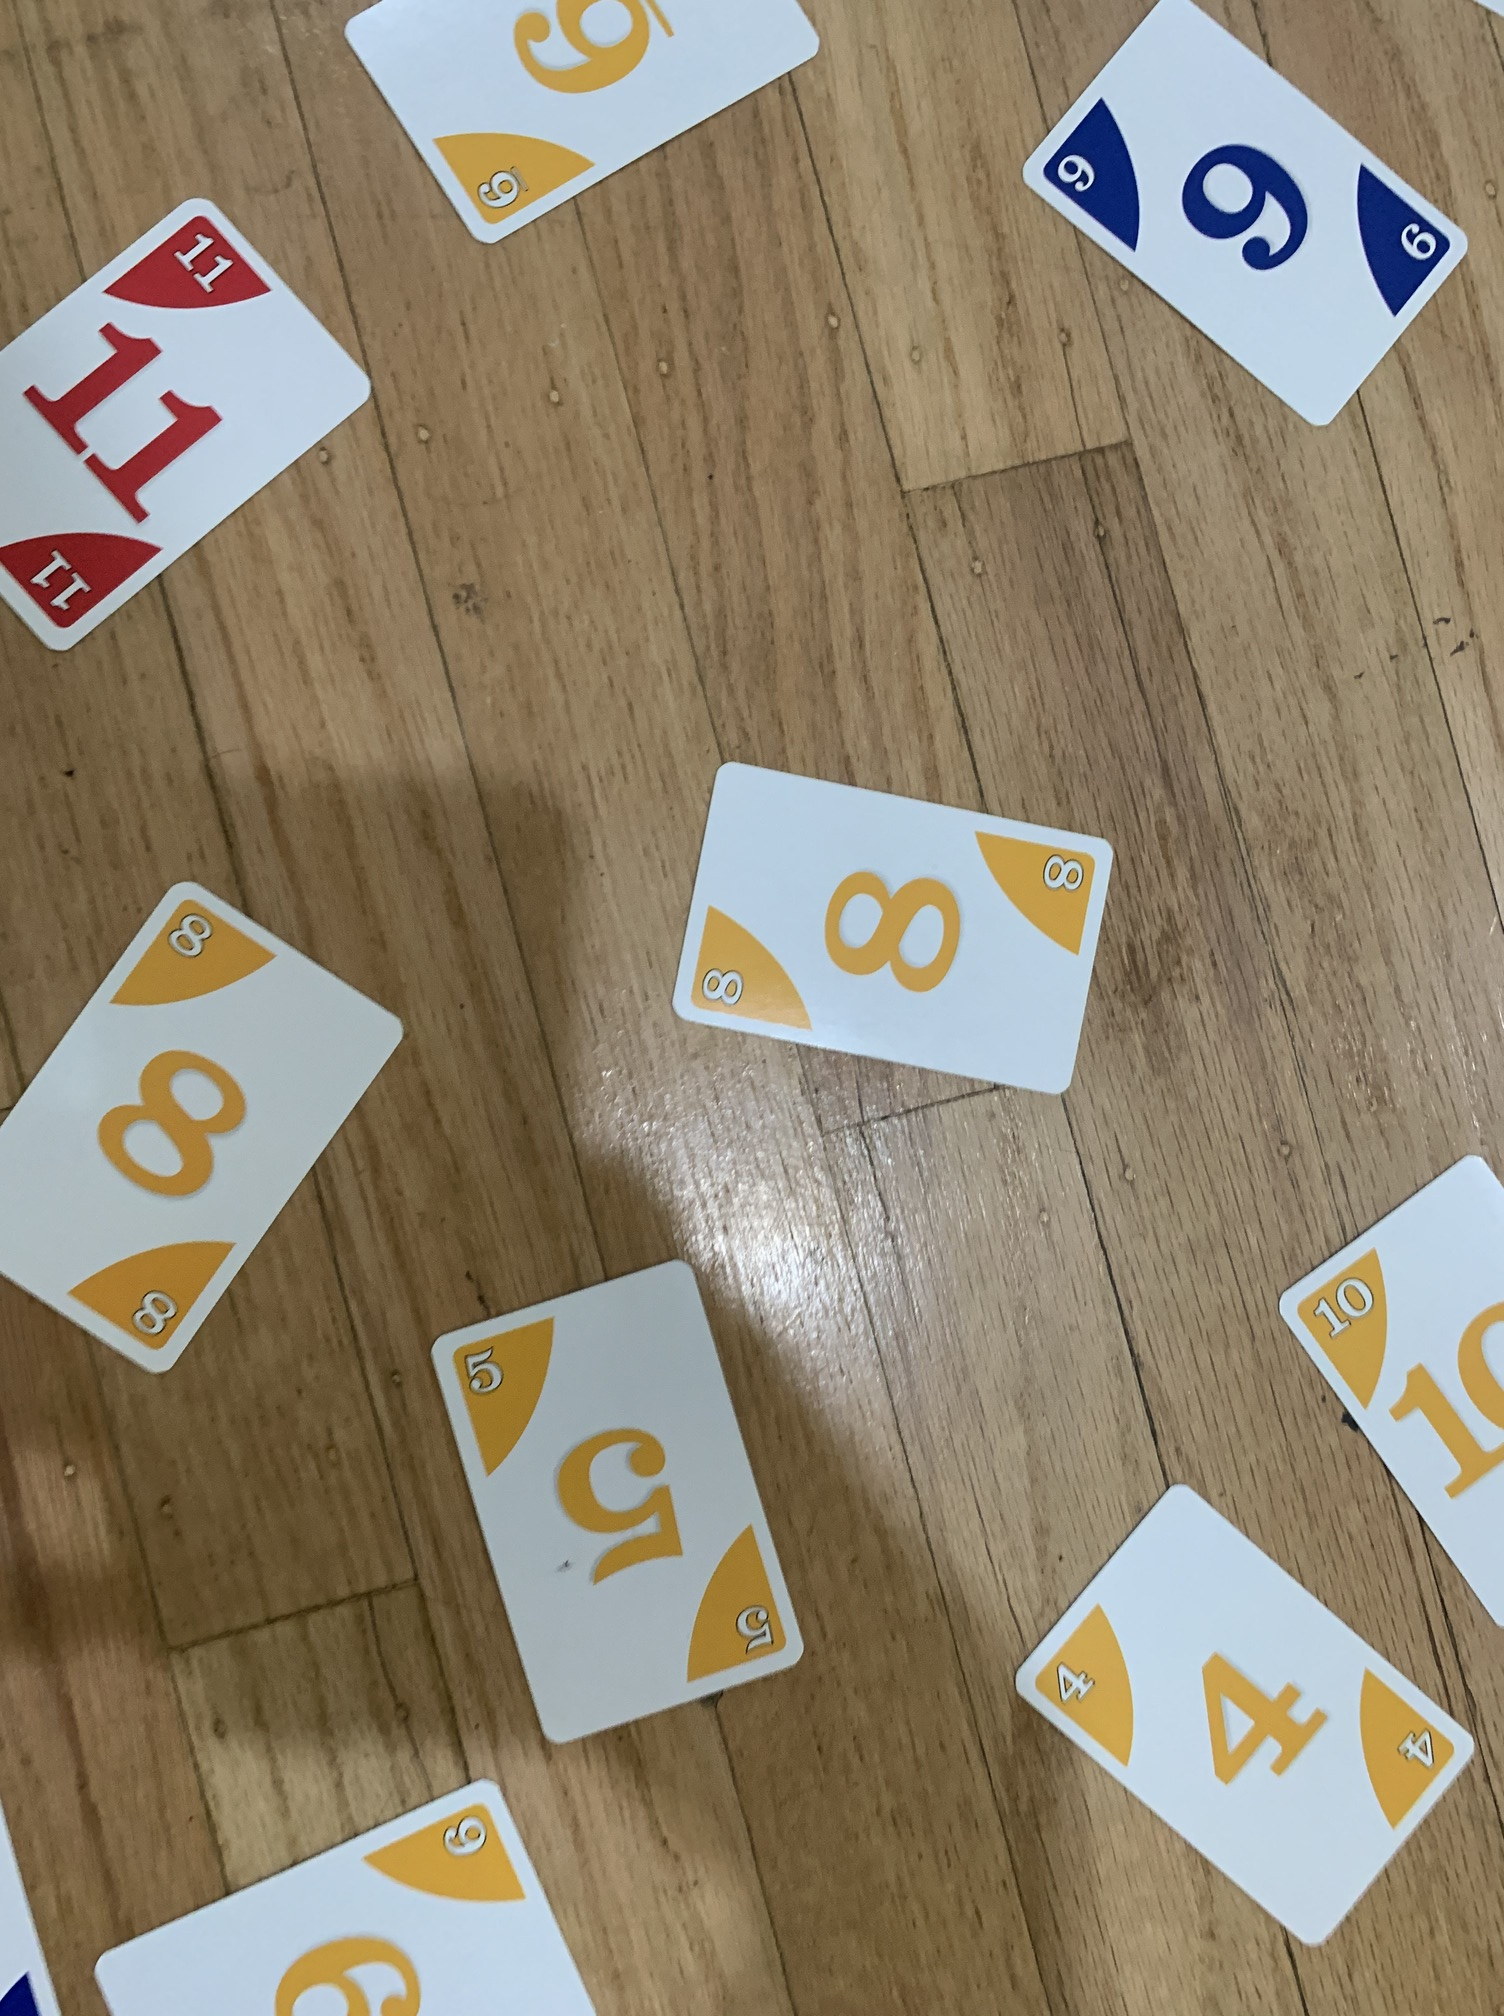eight: (5, 875, 419, 1398), (656, 755, 1122, 1112)
eleven: (5, 186, 381, 671)
five: (423, 1250, 810, 1762)
four: (998, 1476, 1491, 1956)
nine: (1025, 8, 1465, 430)
